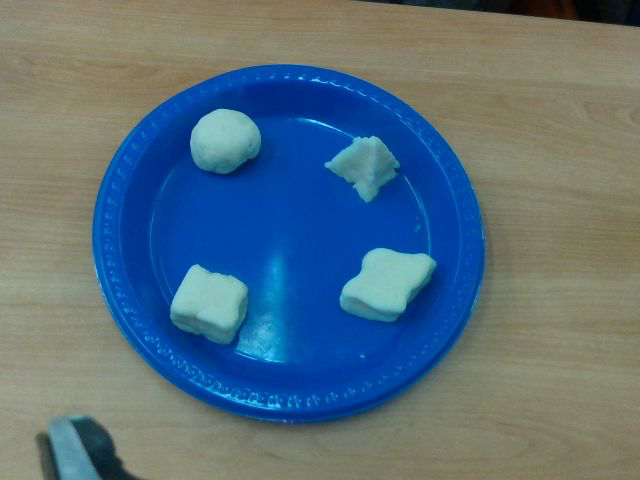mashed_potato: (341, 248, 436, 323), (170, 265, 248, 345), (325, 137, 400, 200), (190, 109, 261, 173)
